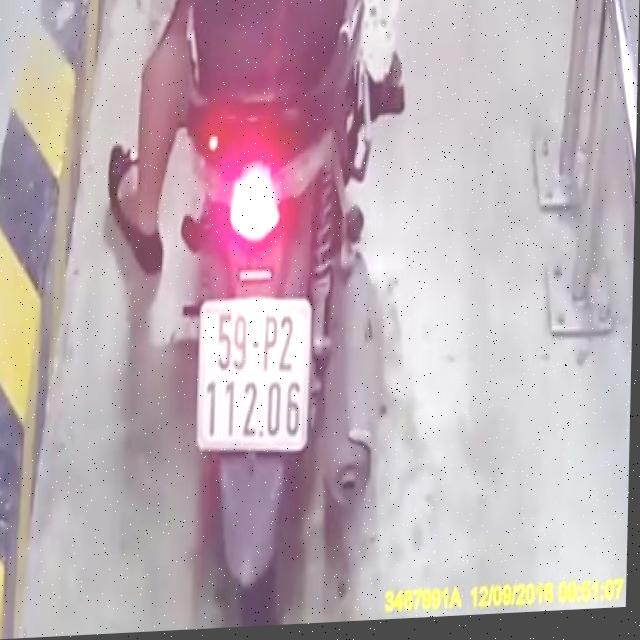motorcycle: (163, 0, 394, 631)
plate: (194, 291, 313, 454)
